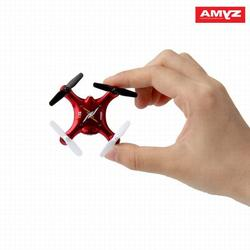drone: (48, 73, 138, 157)
